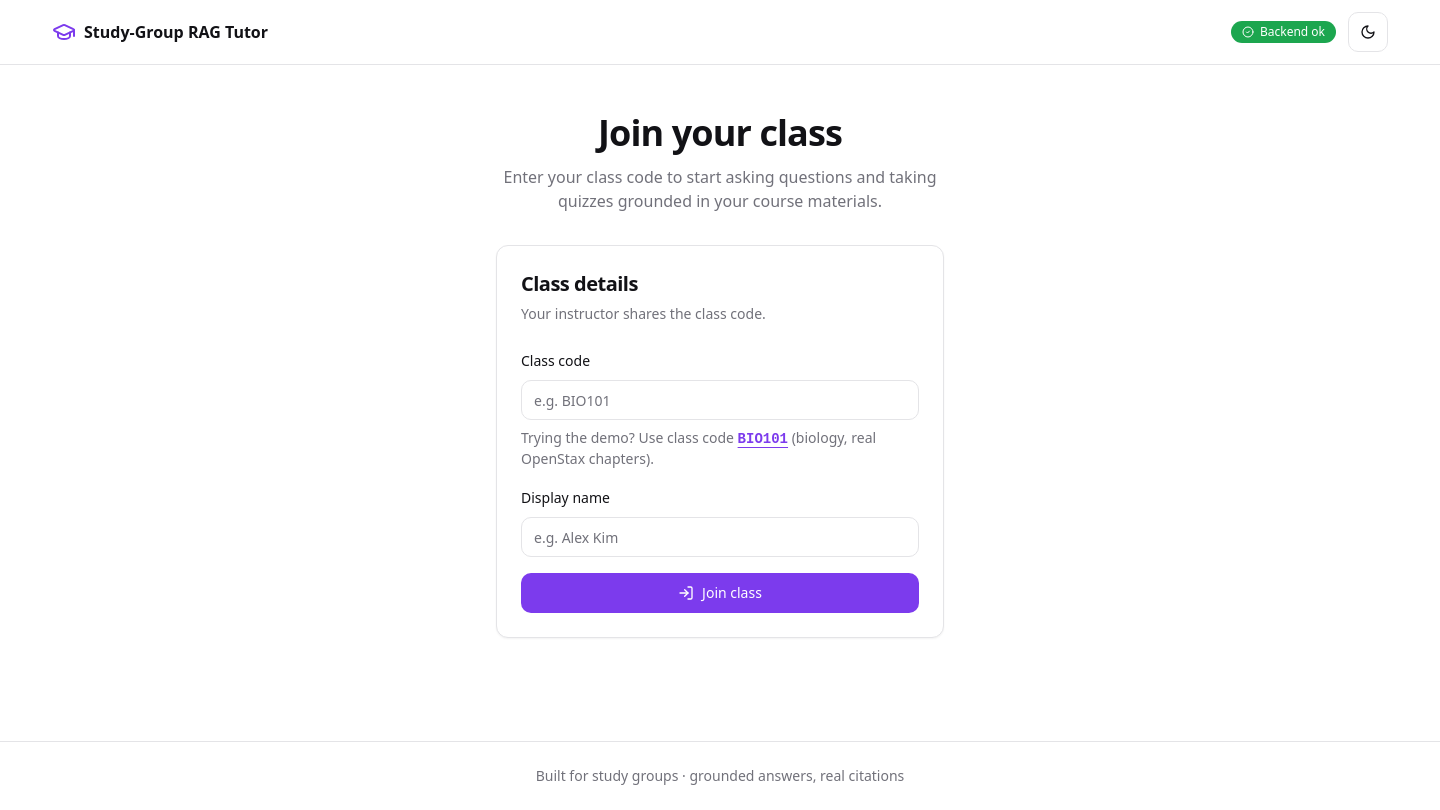
Test: JoinPage › fills in the demo class code when the hint is clicked
Click the button "BIO101": [763, 439] box [738,429,788,449]
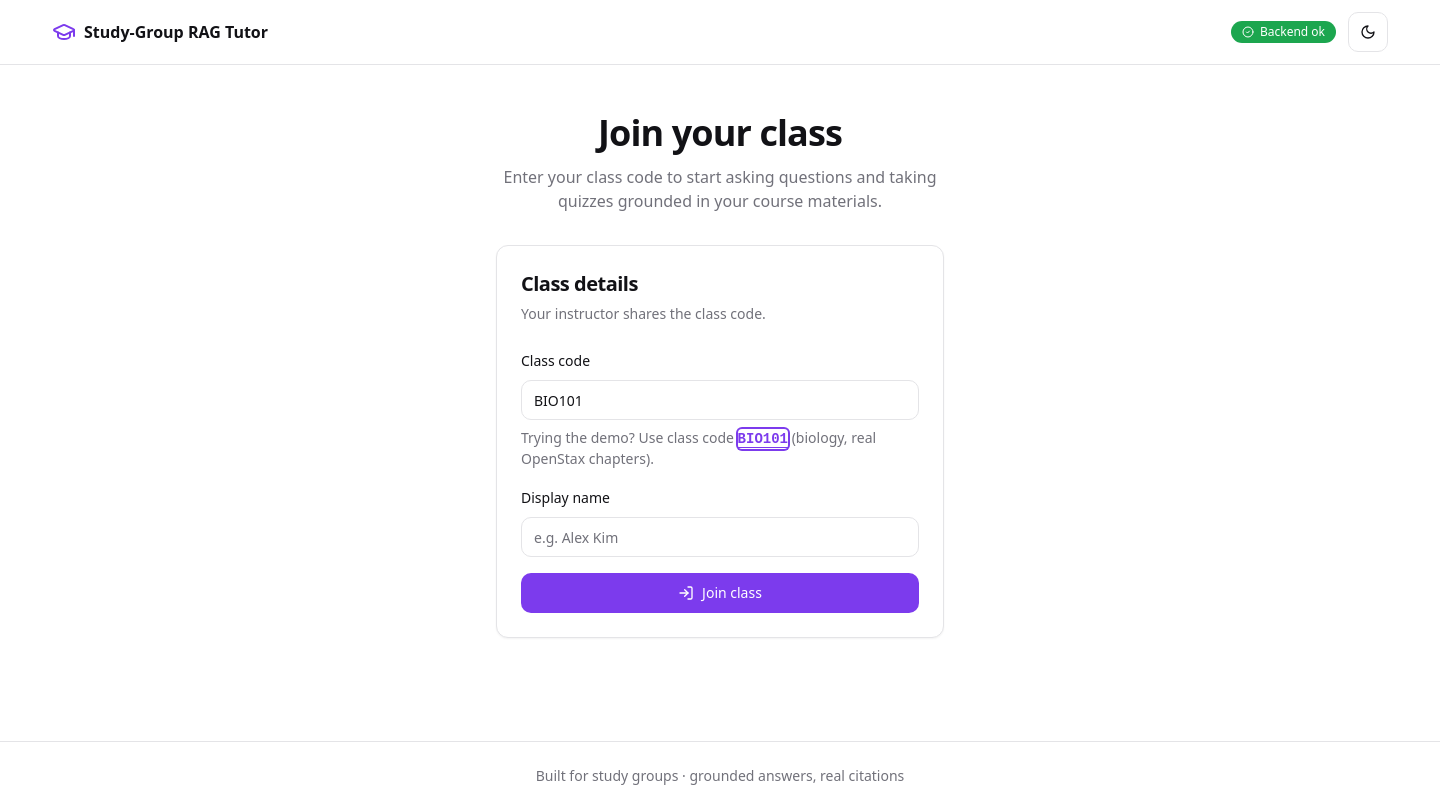
Now the field labelled "Class code" holds "BIO101", box [521,380,919,420]
